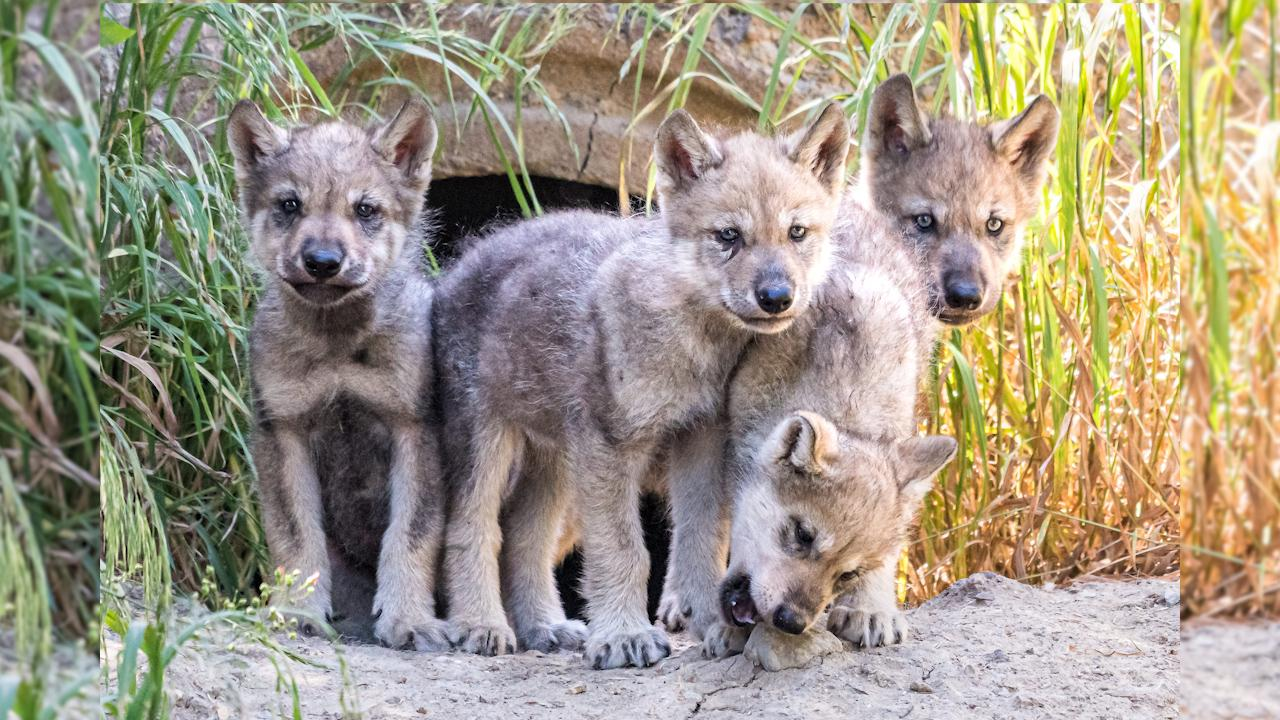fox: (433, 101, 852, 667), (226, 103, 445, 657), (711, 193, 959, 637), (866, 73, 1057, 352)
